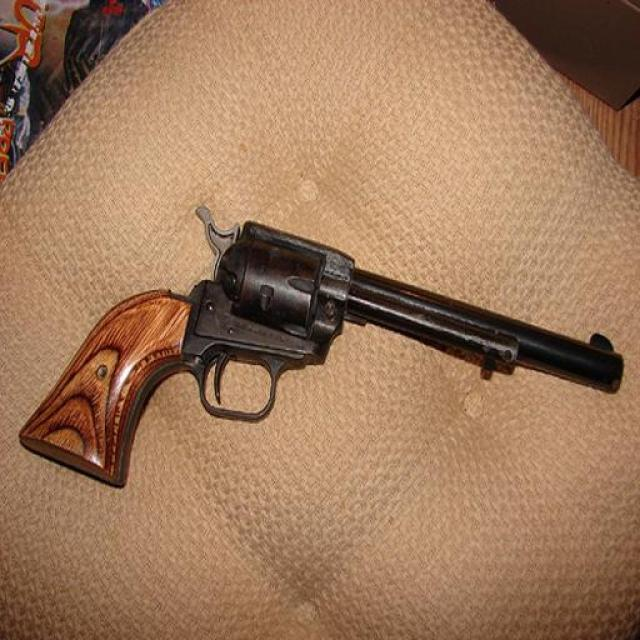pistol: (10, 203, 624, 489)
